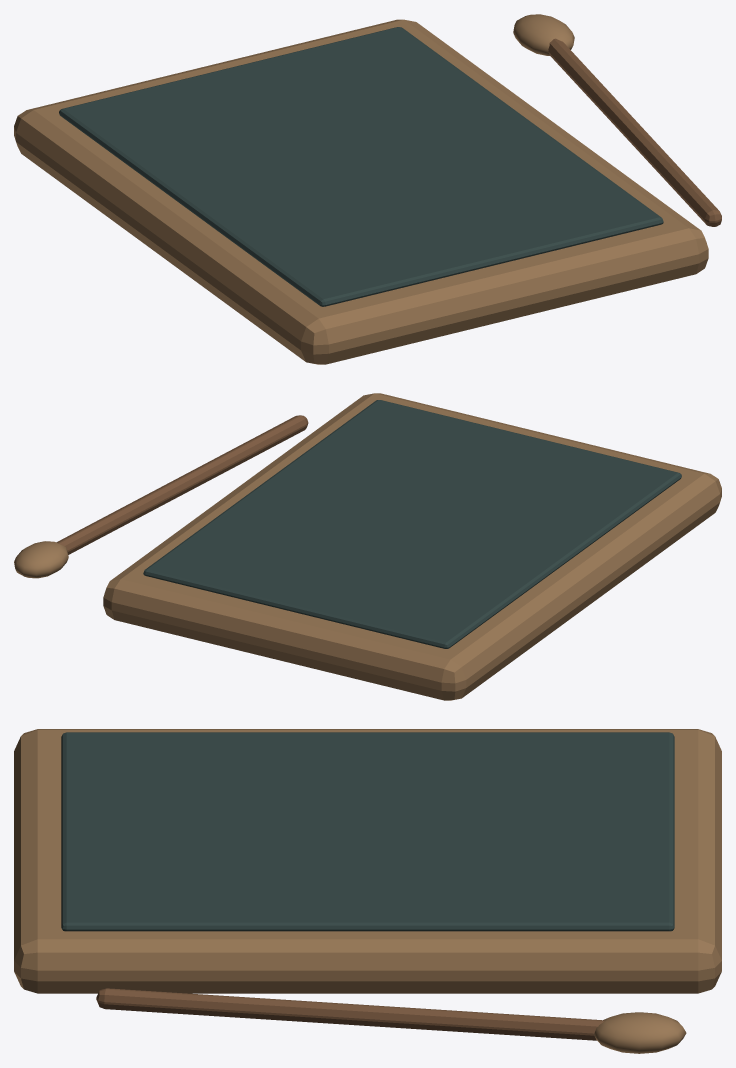
File: writing-tablet.glb
3 renders of one model, top to bottom at view 1: azimuth 30°, elevation 25°; view 2: azimuth 150°, elevation 25°; view 3: azimuth 270°, elevation 25°, orthographic. The views are drawn at different scales.
Parts seen in each view (by area): view 1: writing-tablet__Visual_matte; view 2: writing-tablet__Visual_matte; view 3: writing-tablet__Visual_matte.
Part boxes in pixels (<box>): writing-tablet__Visual_matte: <box>14,14,721,364</box>; writing-tablet__Visual_matte: <box>14,393,721,700</box>; writing-tablet__Visual_matte: <box>14,729,721,1053</box>.
Size of the model in its own units: 0.597 by 0.0565 by 0.6.
